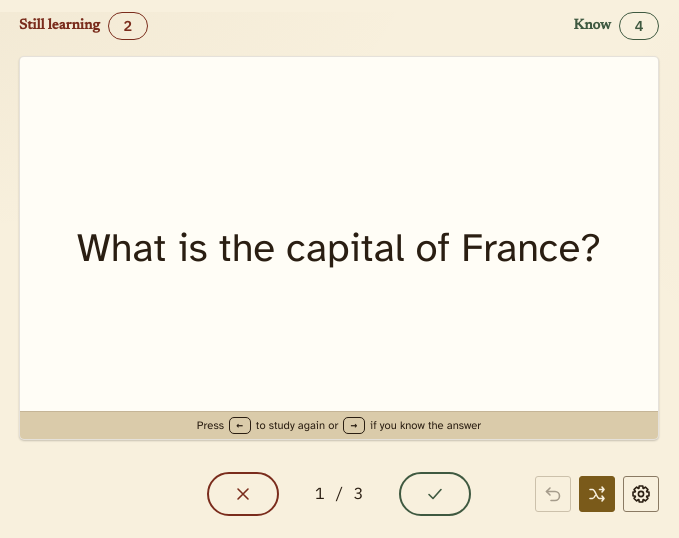
FlashcardSession grade animation › sends a still-learning card off to the left with its own badge and tally
What coordinates should you click on to do the following:
click the button named "Still learning"
I would click on:
 (243, 494)
Its box is [207,472,279,516].
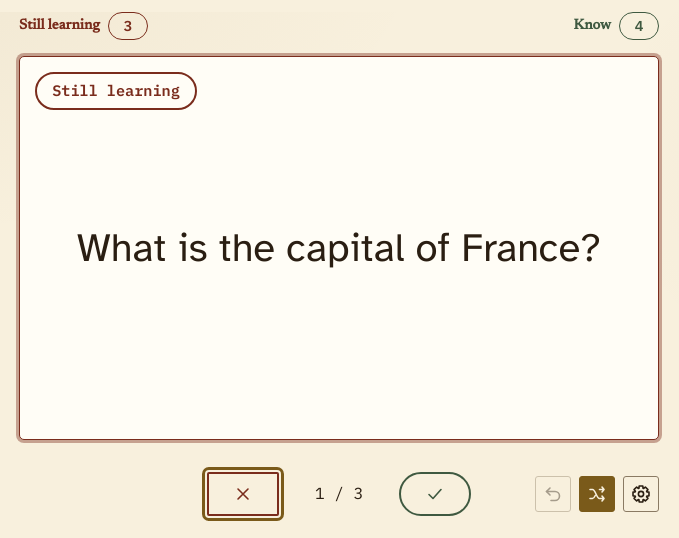
Expected: the text with test id "flashcard-grade-badge" reads "Still learning", [52,80,180,100]
Expected: the text with test id "flashcard-tally-learning" reads "3", [123,16,132,35]
